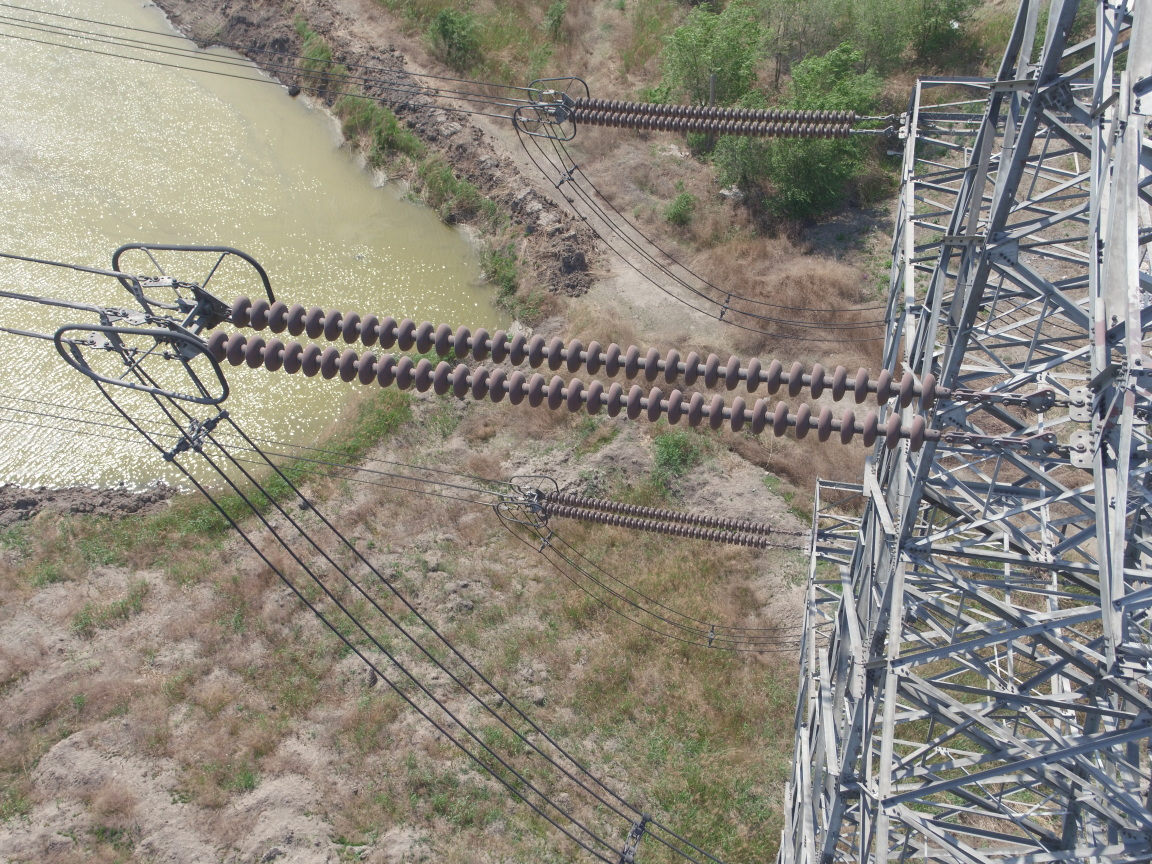insulator: (191, 287, 993, 457), (535, 488, 789, 551), (565, 90, 871, 139)
